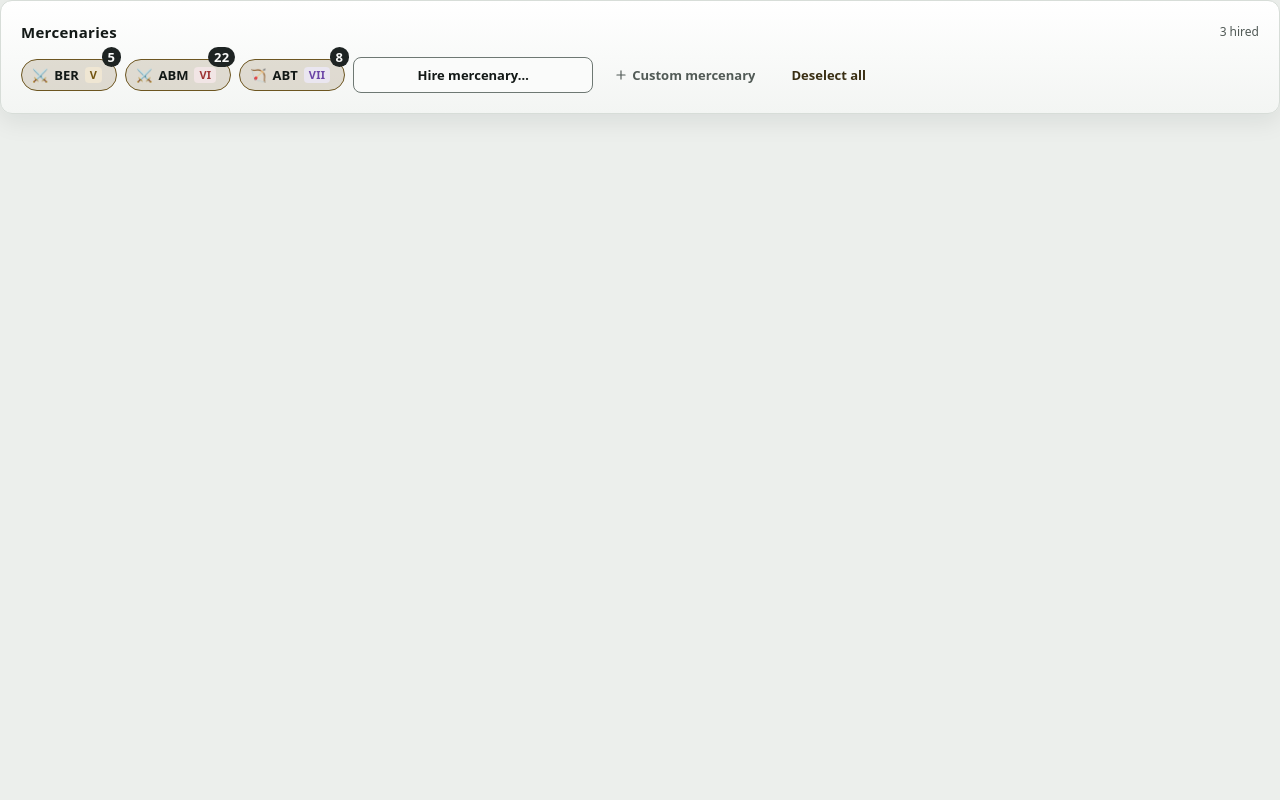
Esc in an editor cancels the edit and keeps the focus on the pill
Click the button named "Bear V: owned 5".
click(111, 57)  # box [102, 47, 121, 67]
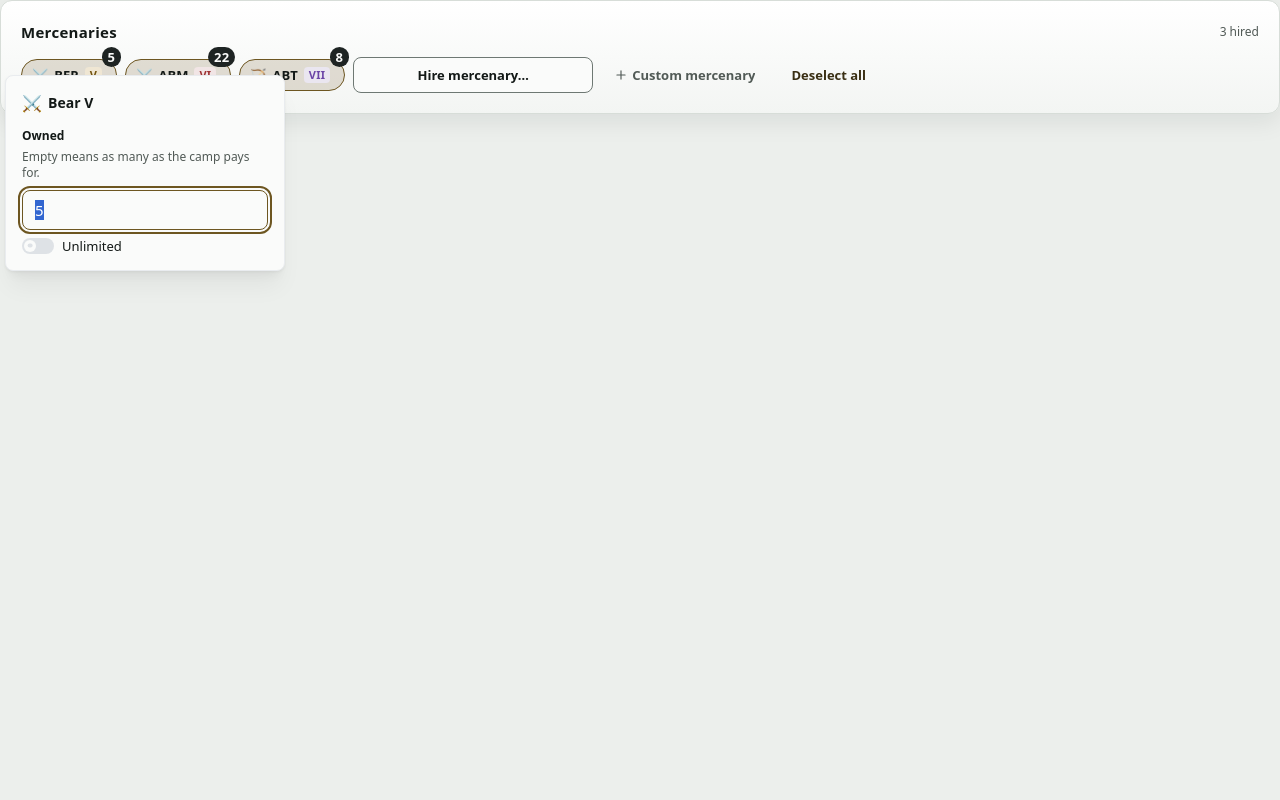
Replace the text in the field labelled "Owned" with "99" at (145, 210), box [22, 190, 268, 230]
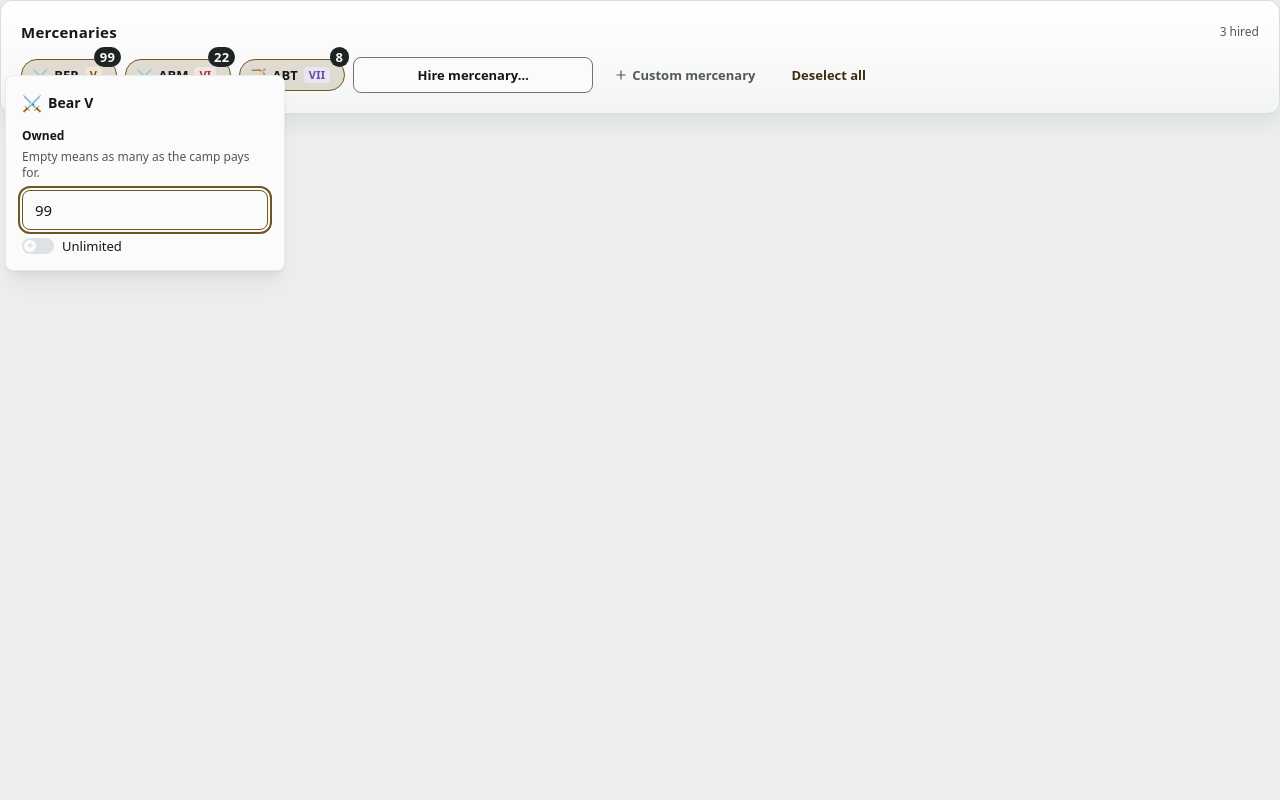
Press Escape
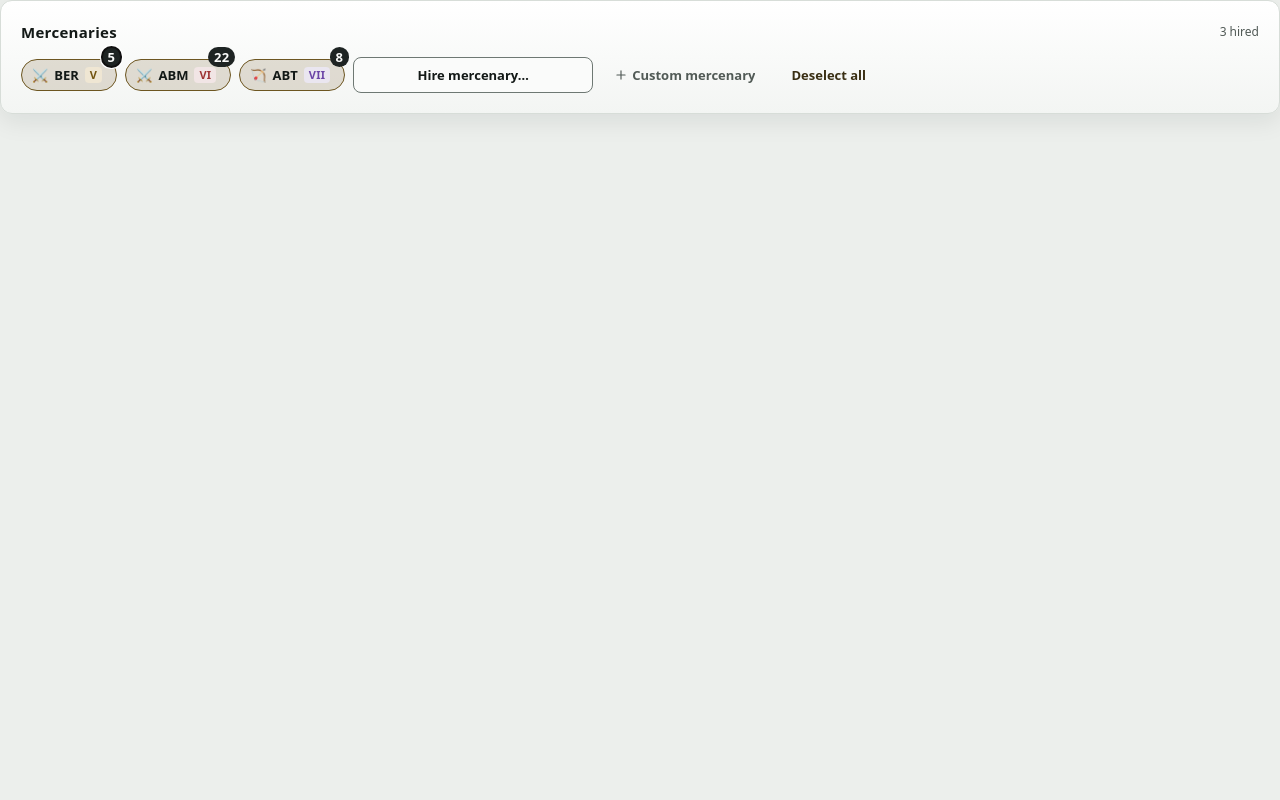
Expected: the dialog is gone
